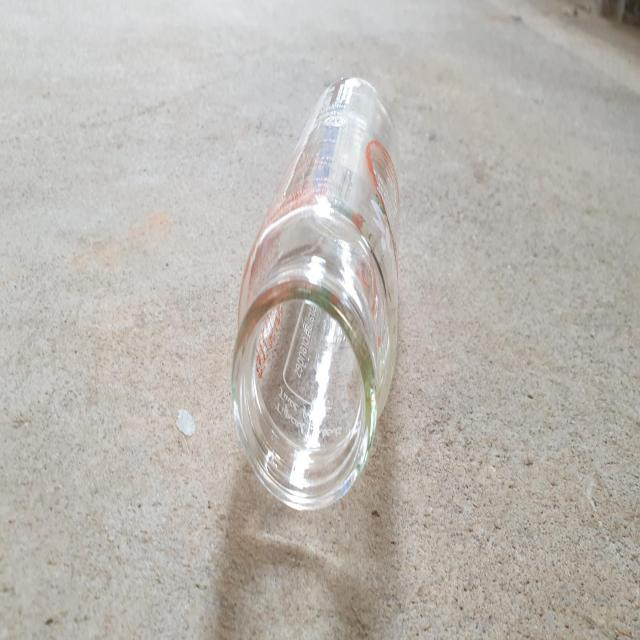glass: (232, 76, 400, 509)
